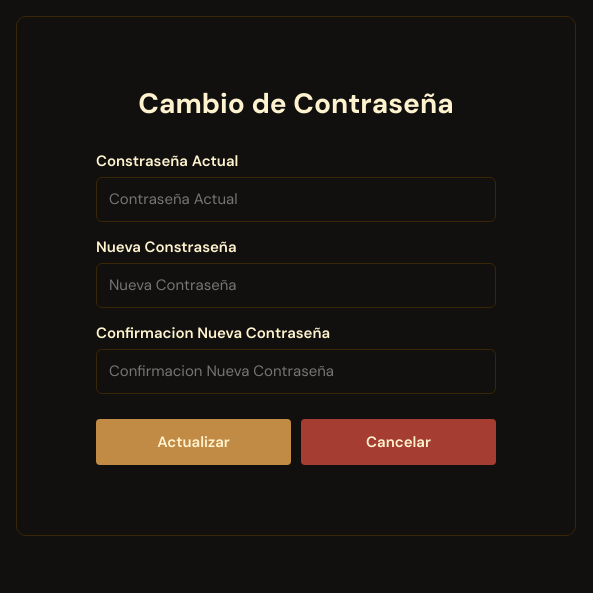
Vista CambiarPsswd - handleChange y handleCambiarClave › muestra un error si falla la conexión
Type "vieja123" into the password field with placeholder "Contraseña Actual" at [296, 199], box [96,177,496,222]
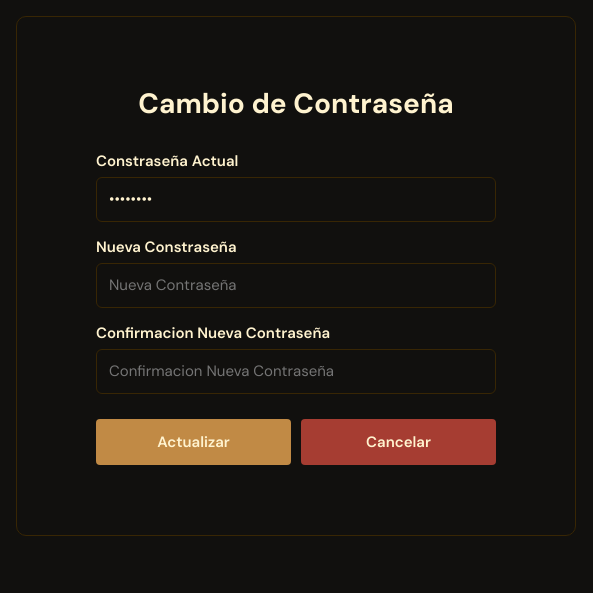
Type "nueva1234" into the password field with placeholder "Nueva Contraseña" at [296, 285], box [96,263,496,308]
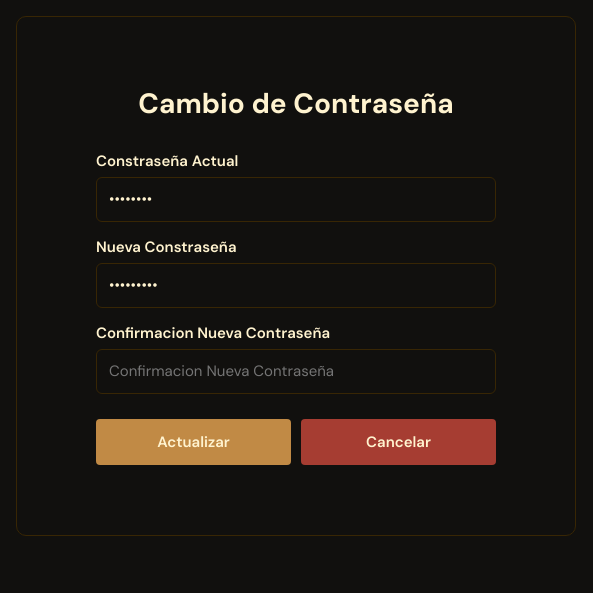
Type "nueva1234" into the password field with placeholder "Confirmacion Nueva Contraseña" at [296, 371], box [96,349,496,394]
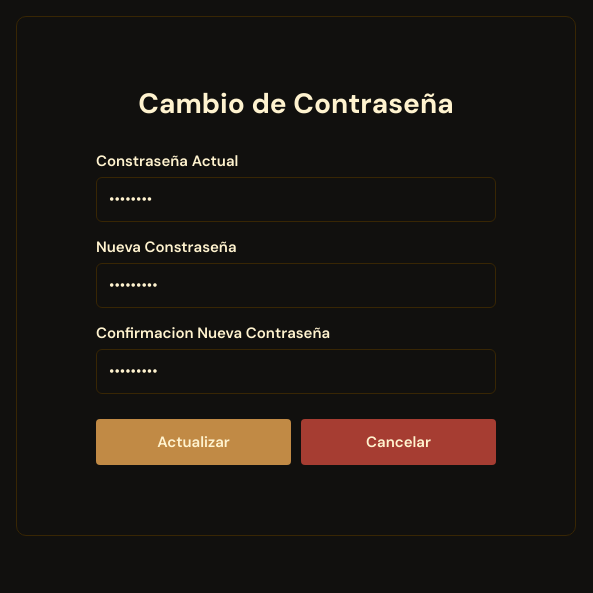
Click the button "Actualizar" at [194, 442], box [96,419,291,465]
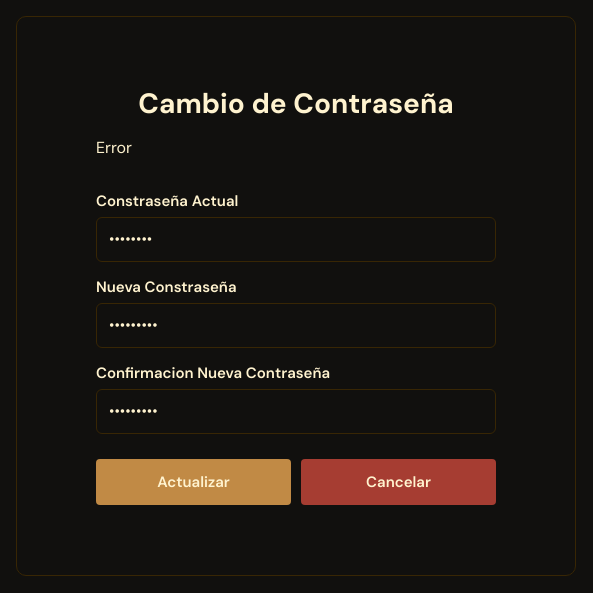
Check: the text "Error" is shown, box [96,137,132,158]
